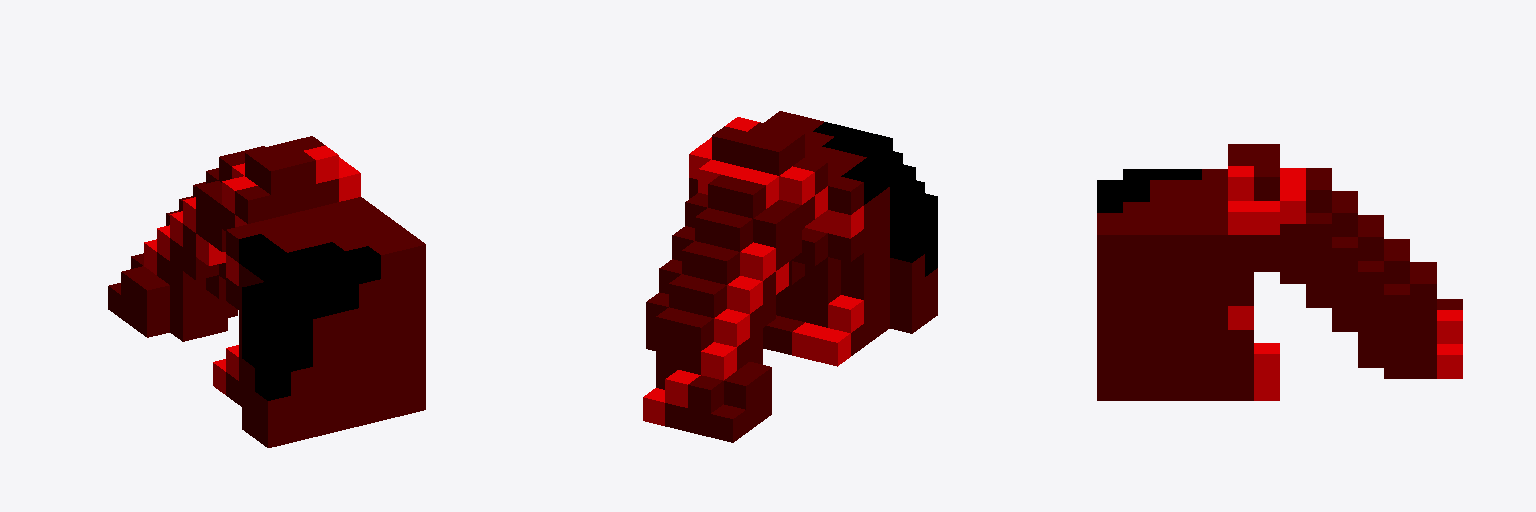
3 views of the same model, side by side, from view 1: azimuth 30°, elevation 25°; view 2: azimuth 150°, elevation 25°; view 3: azimuth 270°, elevation 25° (orthographic).
Visible parts, largest first — view 1: object 1; view 2: object 1; view 3: object 1.
Part boxes in pixels (bbox=[...]): object 1: bbox=[108, 136, 425, 447]; object 1: bbox=[643, 111, 937, 442]; object 1: bbox=[1097, 144, 1462, 400].
Size of the model in its own units: 0.7 by 0.9 by 1.4.
1 materials, 1 textured.